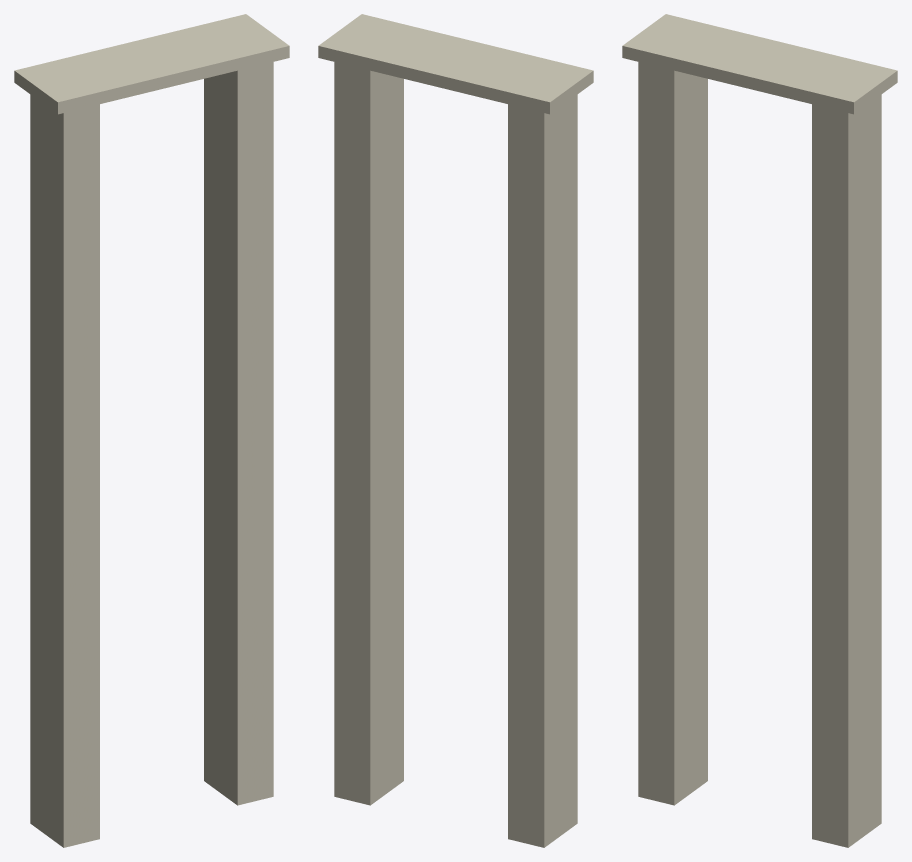
3 renders of one model, left to right at view 1: azimuth 30°, elevation 25°; view 2: azimuth 150°, elevation 25°; view 3: azimuth 330°, elevation 25°, orthographic.
Bounding box in the file's own units: 8 × 24.8 × 2.6.
